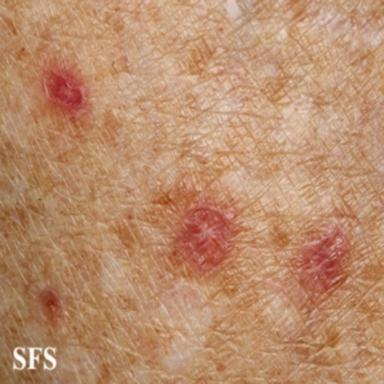Porokeratosis: (173, 198, 239, 276), (295, 226, 350, 295), (42, 67, 88, 113), (40, 287, 62, 324)
